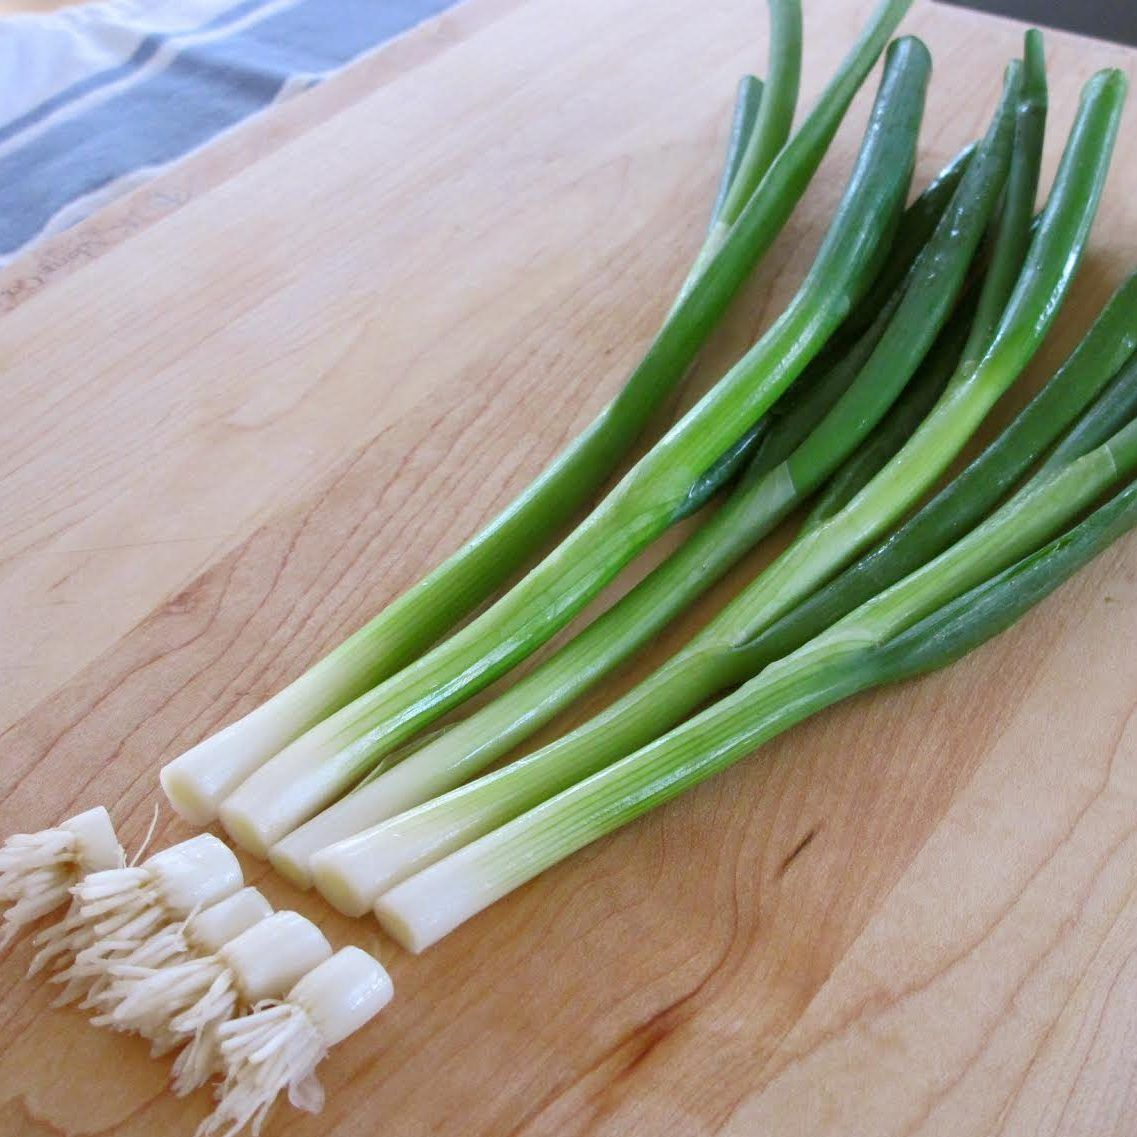Green Onion: (0, 0, 1137, 1137)
